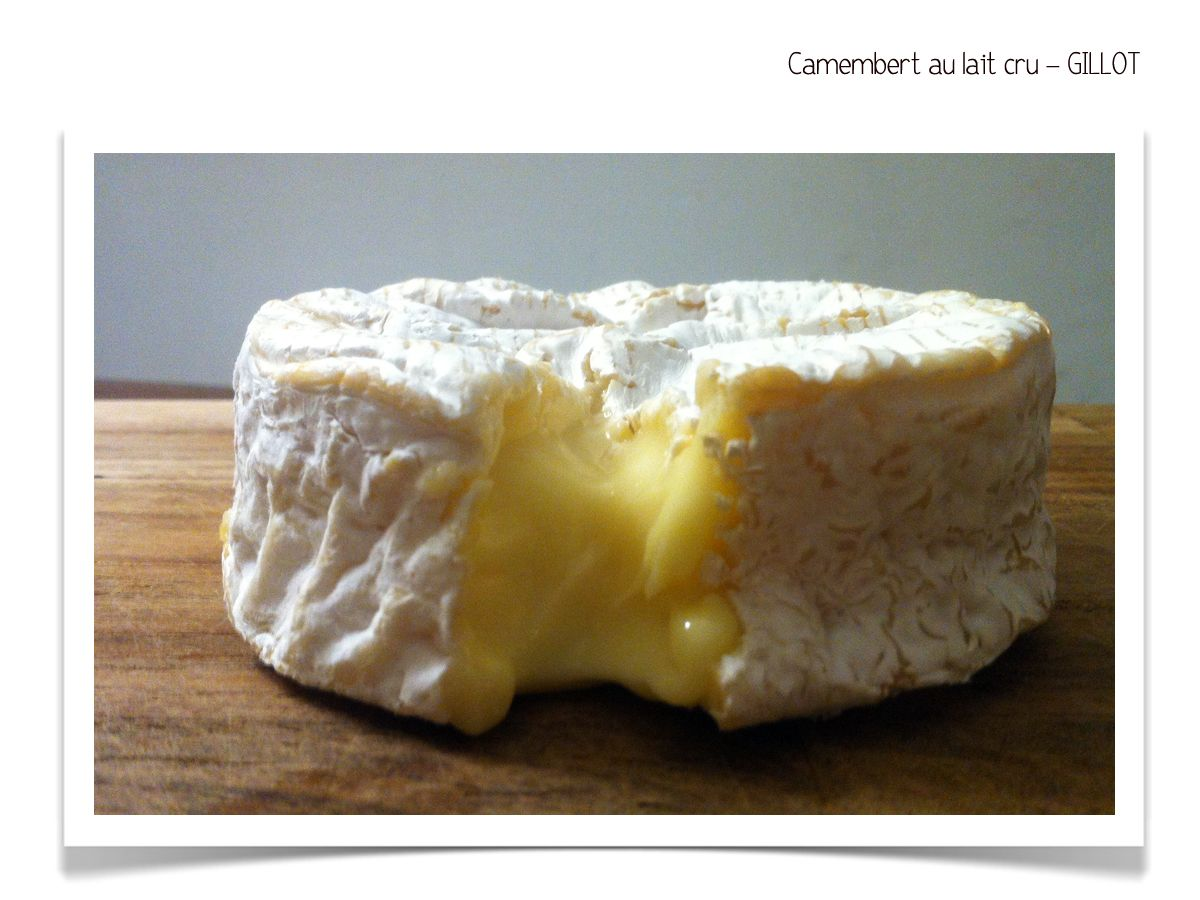camembert: (217, 277, 1064, 740)
